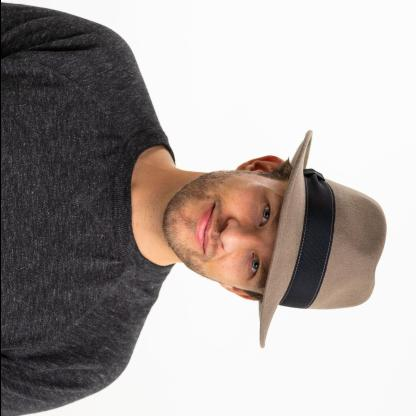hat: (251, 122, 389, 354)
